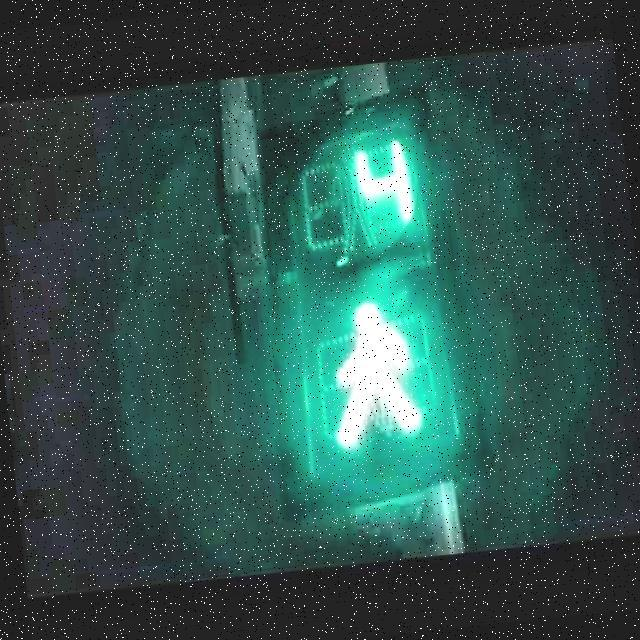green_light: (322, 292, 426, 448)
